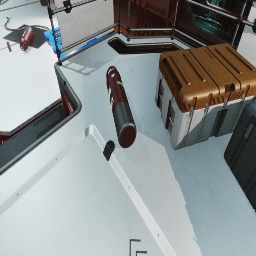0: (0, 0, 4, 3)
NitrogenTank ,: (106, 66, 137, 148), (20, 26, 33, 51)
